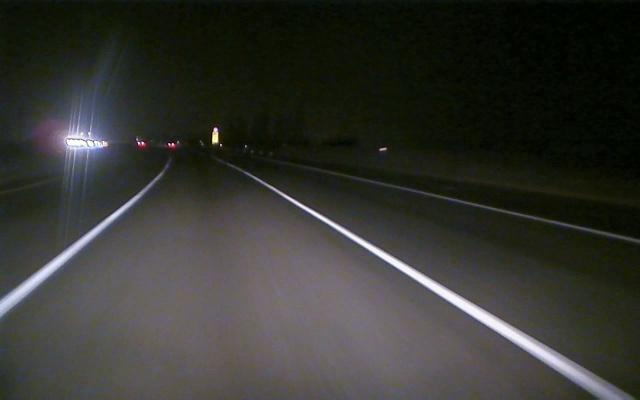lane: (226, 163, 630, 398), (337, 171, 640, 245), (3, 180, 157, 316)
